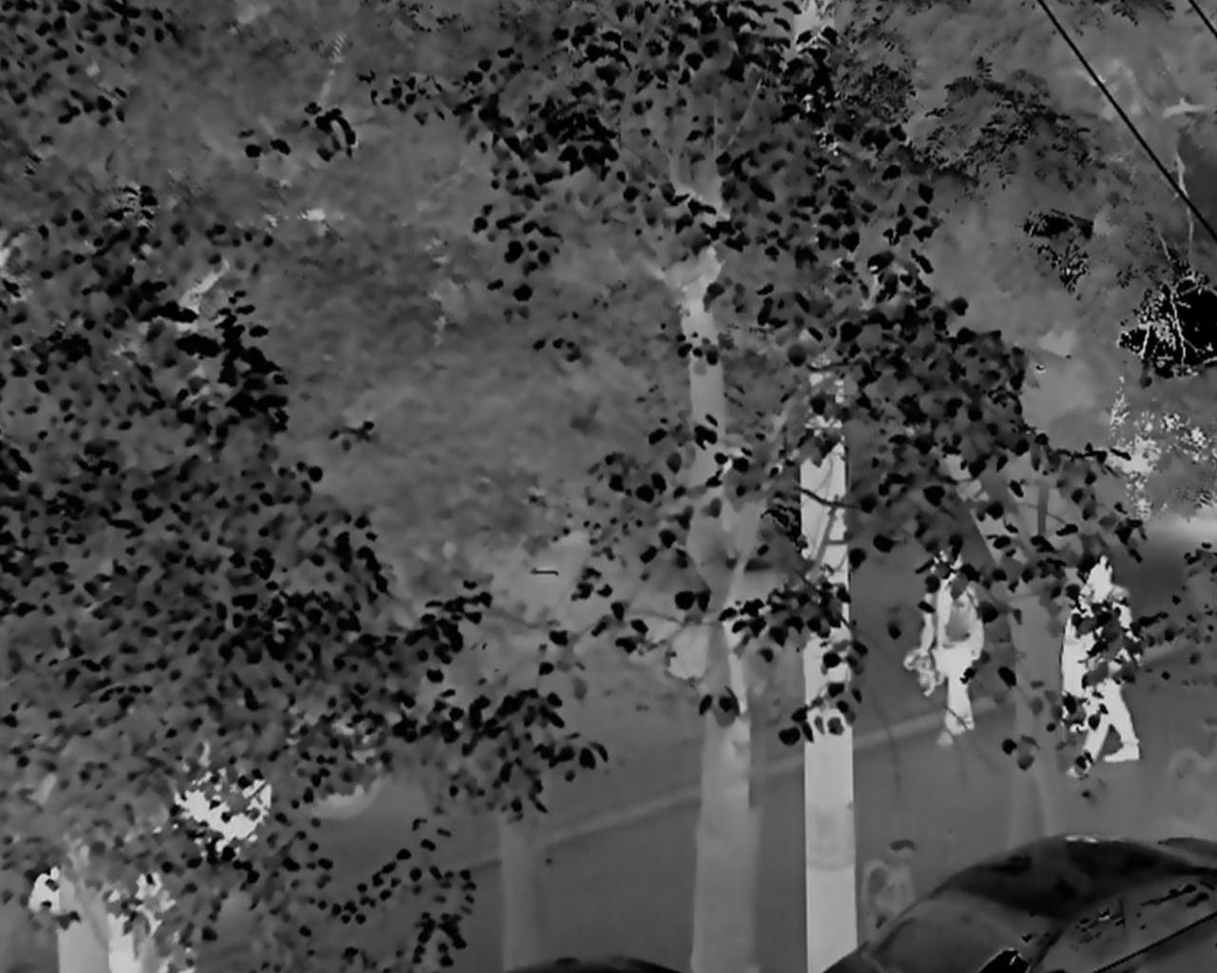person: (1059, 559, 1143, 787), (913, 543, 984, 744)
